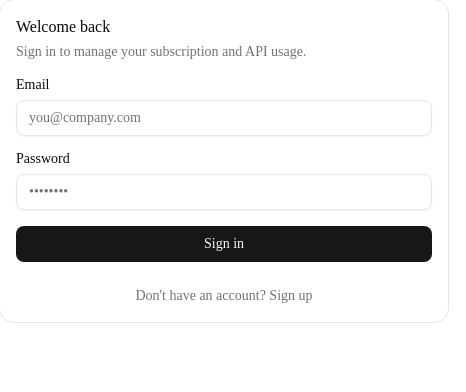
Test: AuthForm › surfaces auth errors
Type "a@b.com" into the field labelled "Email" at [224, 118], box [16,100,432,136]
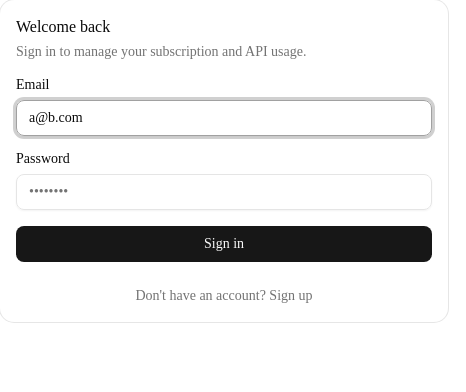
Type "password1" into the password field labelled "Password" at [224, 192], box [16,174,432,210]
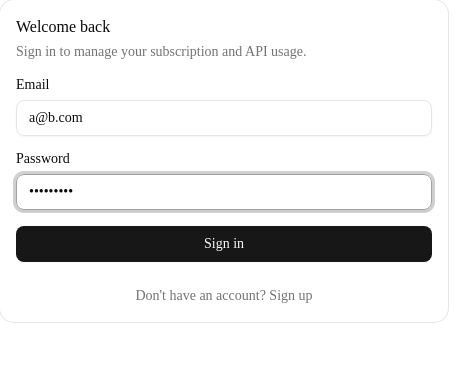
Click the button "Sign in" at [224, 244], box [16,226,432,262]
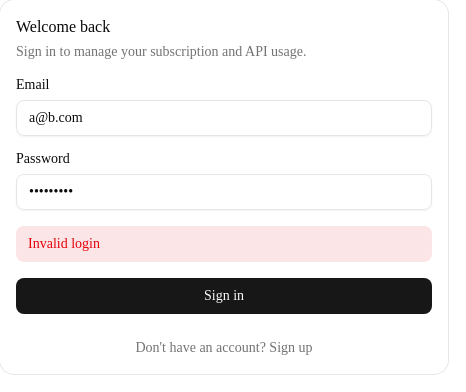
Check: the message reads "Invalid login", box [28,236,100,251]
